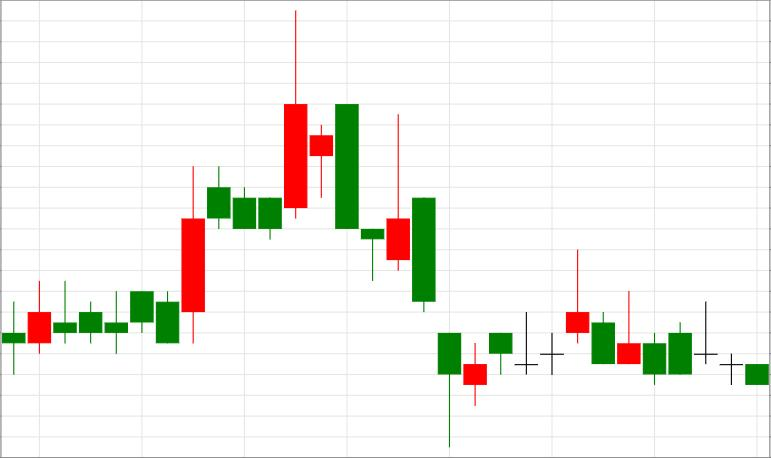hammer_rise: (336, 104, 461, 448)
shooting_star_fall: (463, 250, 589, 406)
